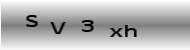3: (80, 19, 95, 33)
S: (24, 13, 39, 27)
V: (48, 21, 67, 35)
h: (124, 23, 137, 38)
x: (109, 27, 122, 38)
